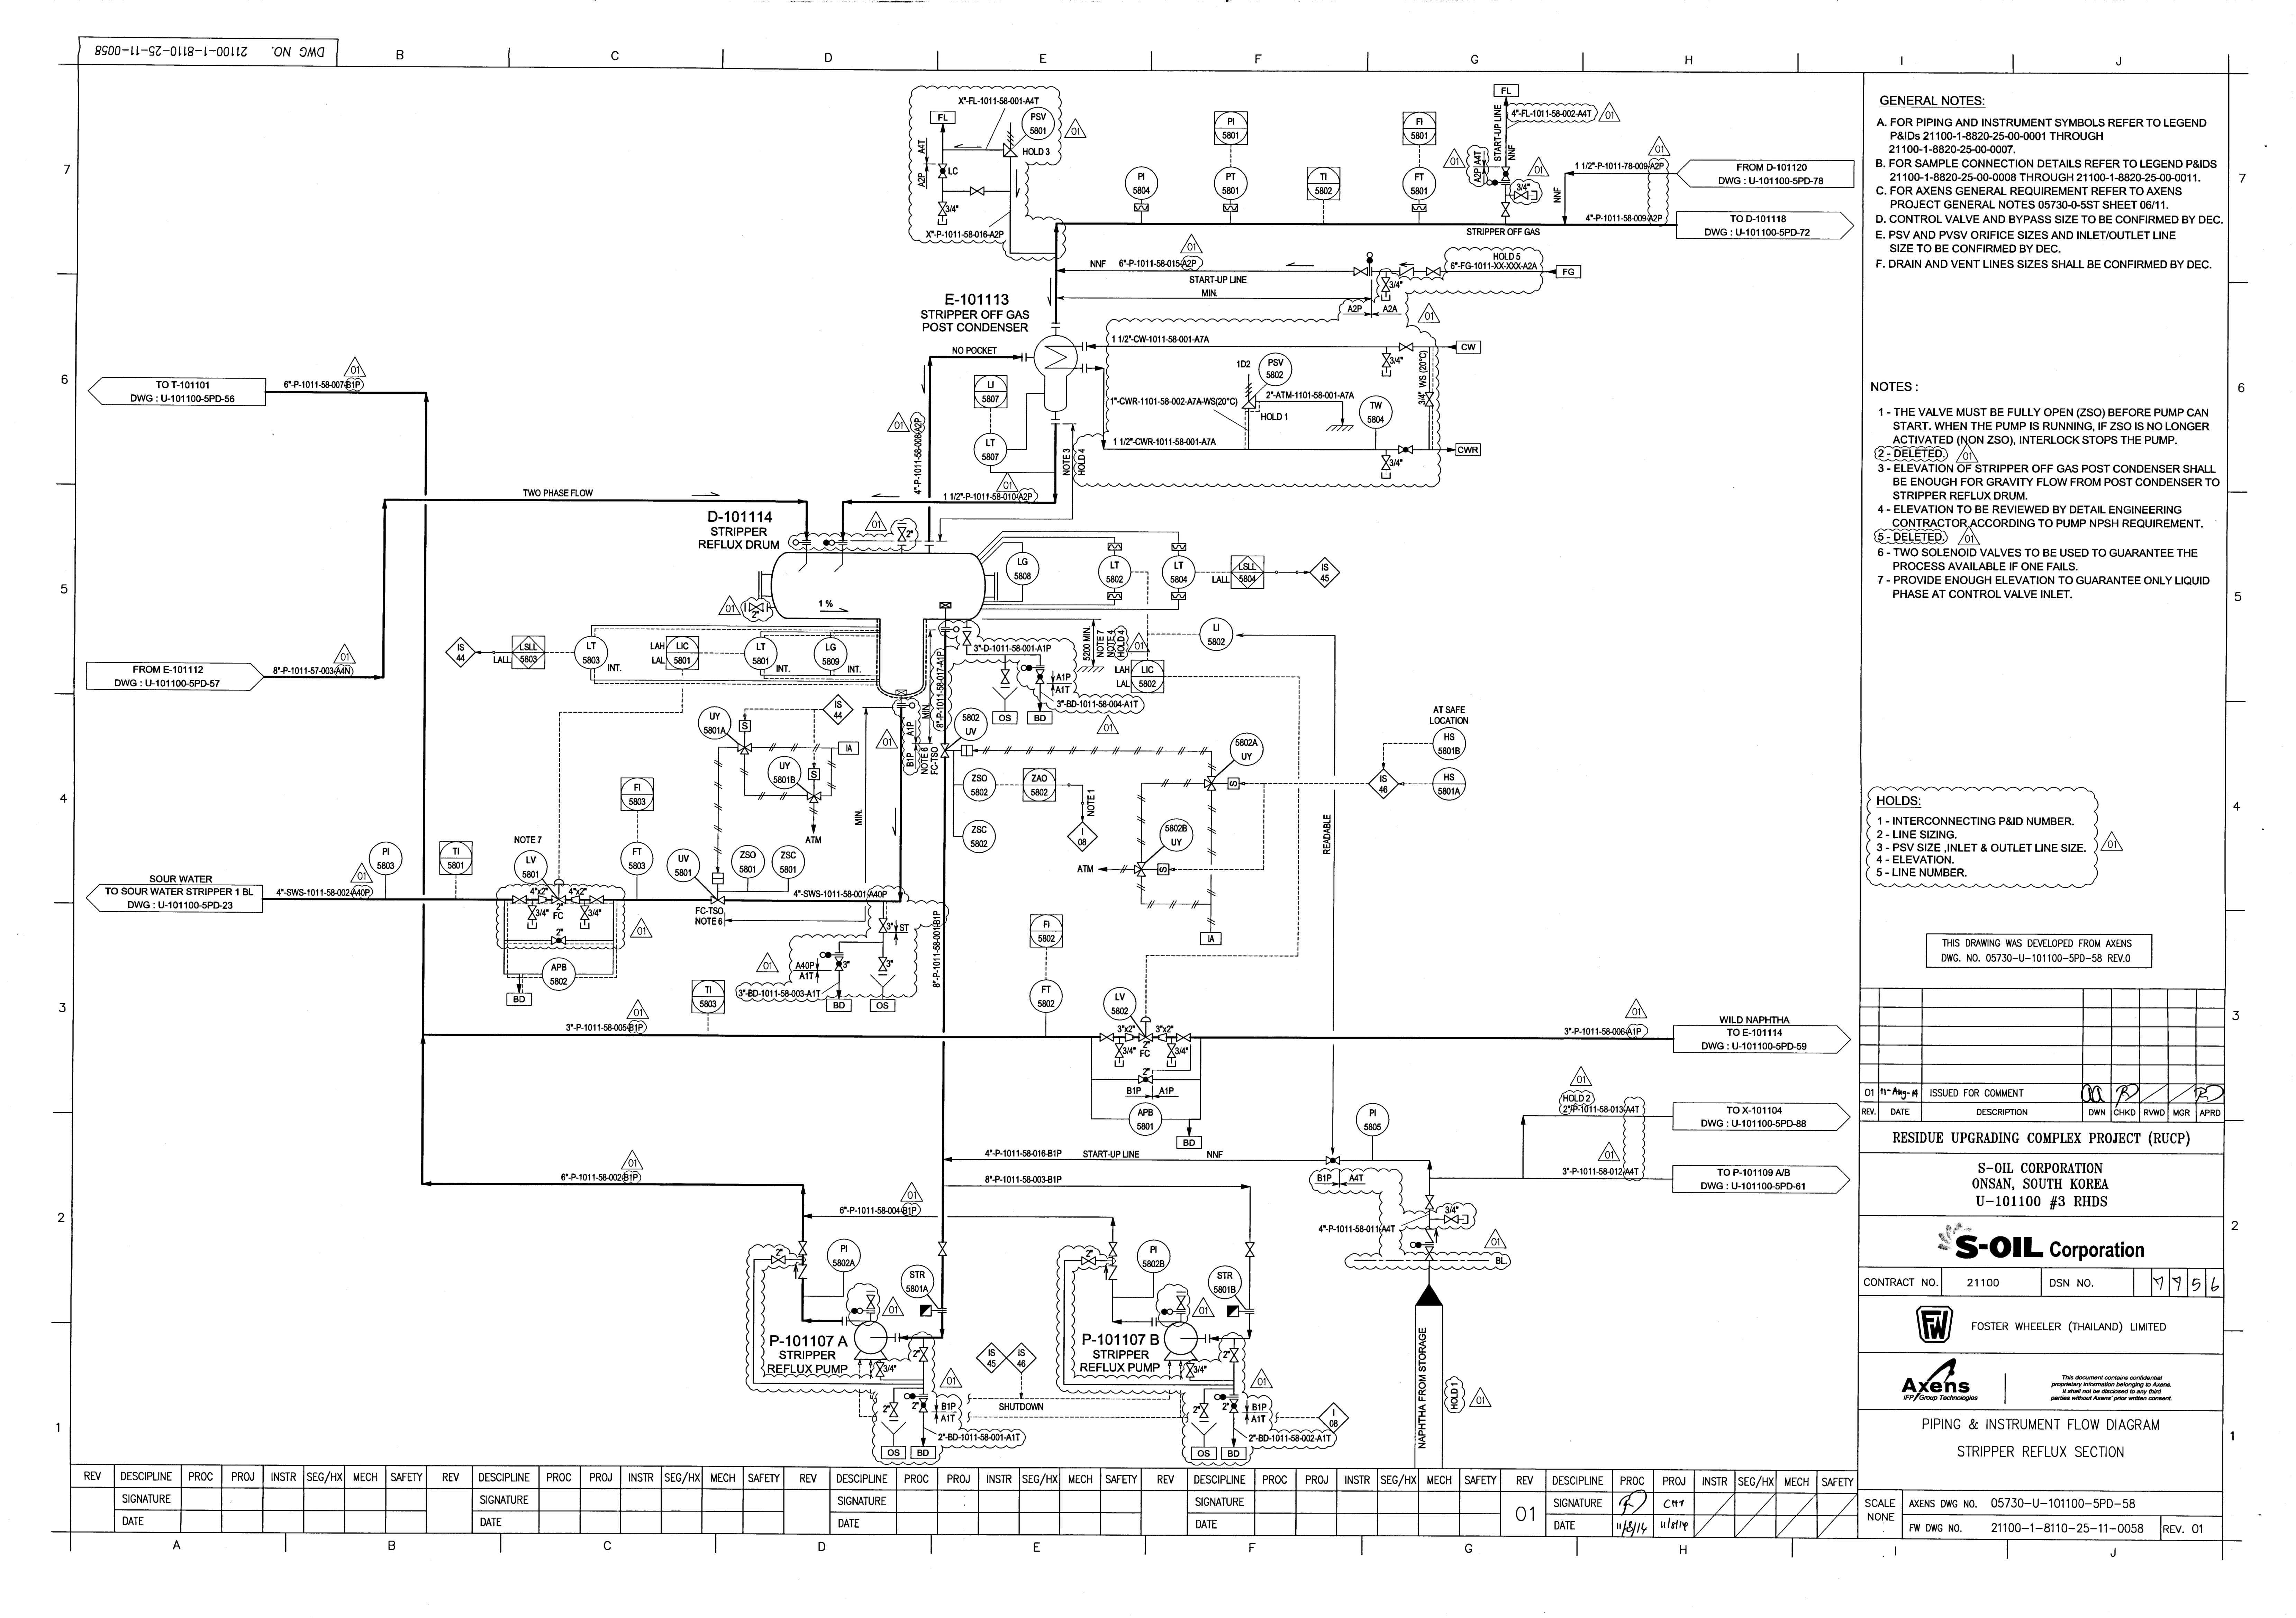NAS: (708, 869, 729, 905), (939, 742, 977, 762), (1646, 156, 1674, 179), (1000, 142, 1019, 159), (960, 742, 979, 758), (1422, 1226, 1438, 1243), (806, 791, 825, 805), (1135, 860, 1149, 879), (1410, 201, 1431, 214), (1398, 263, 1415, 277), (1081, 362, 1103, 373), (736, 742, 755, 755), (1133, 860, 1145, 879), (1107, 590, 1124, 602), (1081, 340, 1098, 352), (1170, 541, 1187, 552), (895, 702, 916, 711), (1238, 574, 1257, 583), (1133, 860, 1142, 879), (895, 688, 909, 699), (937, 217, 949, 228), (1410, 1240, 1422, 1250), (1214, 1392, 1228, 1401), (1487, 179, 1499, 187), (1380, 294, 1392, 303), (1380, 471, 1392, 480), (527, 921, 539, 930), (1166, 1059, 1177, 1068)
butterfly0: (1324, 1154, 1343, 1166), (1398, 445, 1415, 455), (1137, 1075, 1154, 1086), (550, 935, 567, 946)
butterfly90: (1501, 165, 1511, 182), (937, 163, 947, 180), (1035, 669, 1046, 685), (834, 956, 844, 972), (918, 1397, 928, 1413)
gategate90: (1138, 1016, 1154, 1042)
reduce0: (536, 895, 548, 904), (1124, 1033, 1135, 1042)
reduce180: (571, 895, 581, 905), (1158, 1033, 1168, 1042)
valvecontrol90: (550, 877, 567, 905)
valvegate0: (1424, 264, 1441, 277), (1398, 341, 1415, 354), (748, 601, 765, 613), (1079, 1256, 1098, 1266), (1513, 189, 1529, 201), (1352, 266, 1370, 277), (968, 186, 986, 196), (588, 895, 606, 905), (1098, 1031, 1116, 1042), (1175, 1033, 1193, 1044), (769, 1254, 786, 1264), (1443, 1213, 1461, 1224), (511, 895, 529, 904)
valvegate90: (935, 1240, 949, 1259), (877, 916, 890, 937), (1107, 1240, 1119, 1259), (1198, 1401, 1210, 1420), (797, 1240, 809, 1257), (1175, 1294, 1187, 1312), (918, 1345, 928, 1364), (937, 201, 949, 217), (1000, 667, 1011, 685), (1424, 390, 1434, 408), (527, 904, 538, 921), (580, 904, 590, 921), (1166, 1042, 1177, 1059), (1114, 1042, 1124, 1059), (877, 956, 888, 974), (888, 1401, 898, 1418), (865, 1292, 876, 1310), (897, 525, 907, 543), (1424, 1194, 1434, 1212), (1424, 1245, 1434, 1263), (1186, 1362, 1196, 1380), (1229, 1347, 1240, 1364), (1229, 1397, 1240, 1415), (1501, 201, 1511, 217), (1380, 277, 1391, 292), (1382, 352, 1392, 368), (1380, 455, 1391, 471), (876, 1361, 884, 1378)
